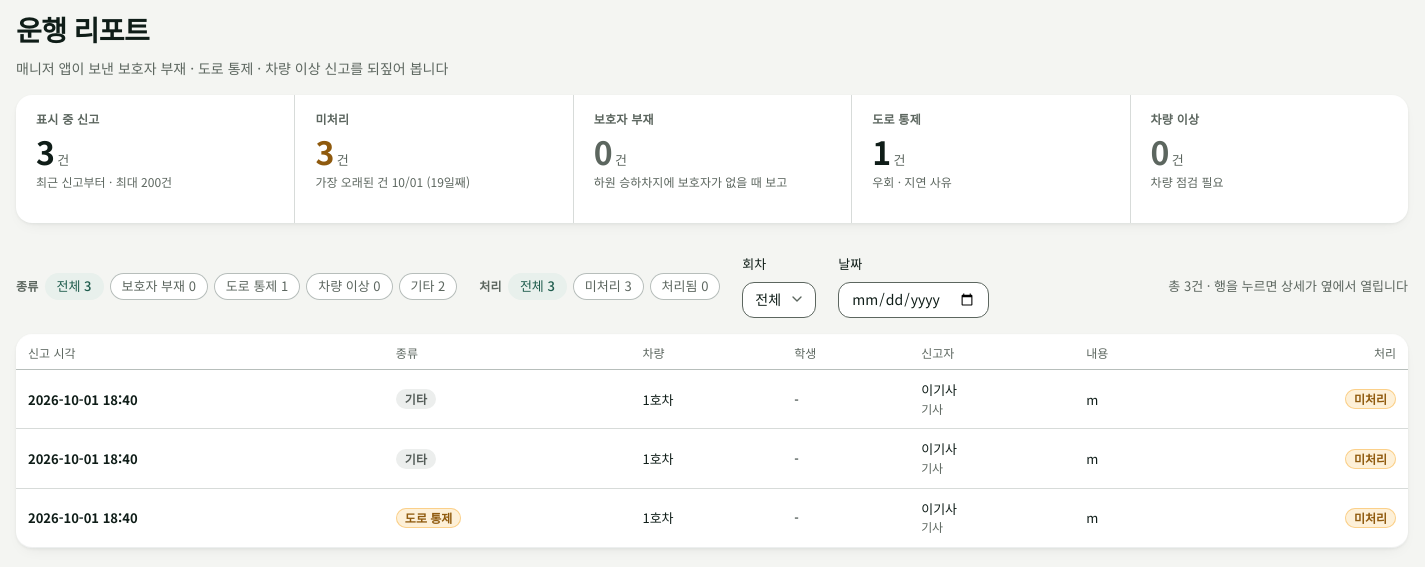
Test case: ReportList — 미처리 카드와 필터의 일관성 › 종류를 고른 채 처리 필터를 바꾸면, 앞 조건에서 센 종류별 건수를 그대로 쓰지 않는다
Expected: the tab "기타 2" is shown, [398,273,457,300]
What coordinates should you click on to do the following:
click the tab "도로 통제 1"
I would click on:
 (257, 286)
Its box is [214,273,300,300].
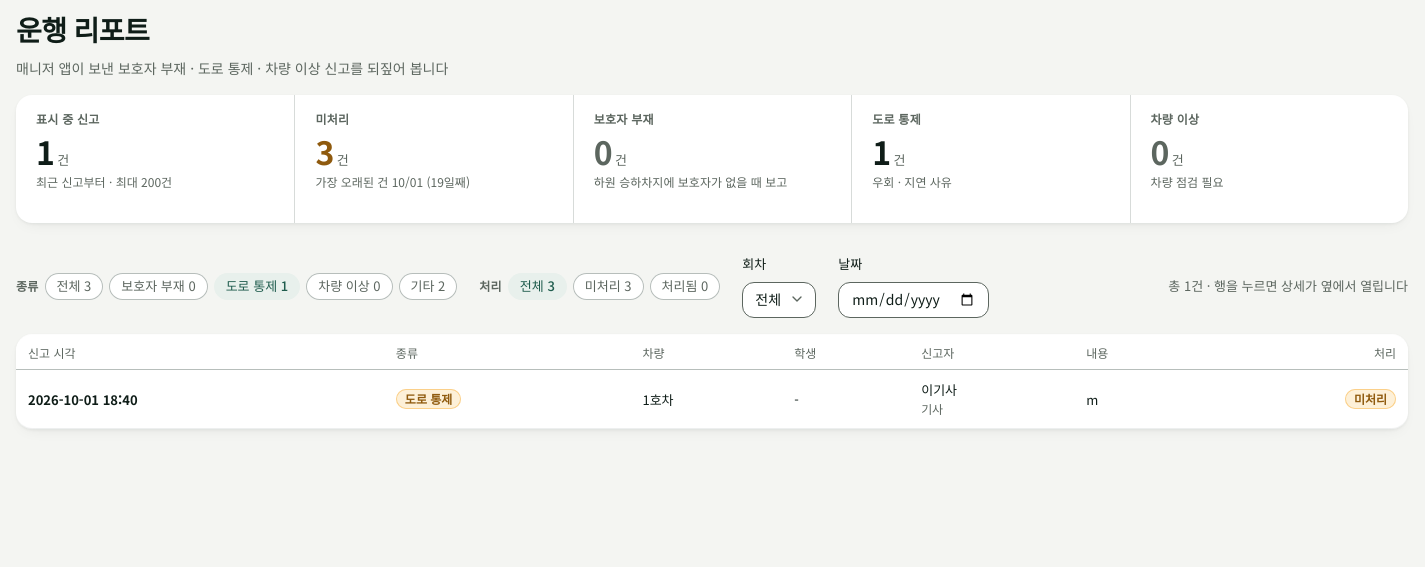
Expected: the tab "기타 2" is shown, [398,273,457,300]
What coordinates should you click on to do the following:
click the tab "미처리 3"
I would click on:
 (608, 286)
Its box is [573,273,644,300].
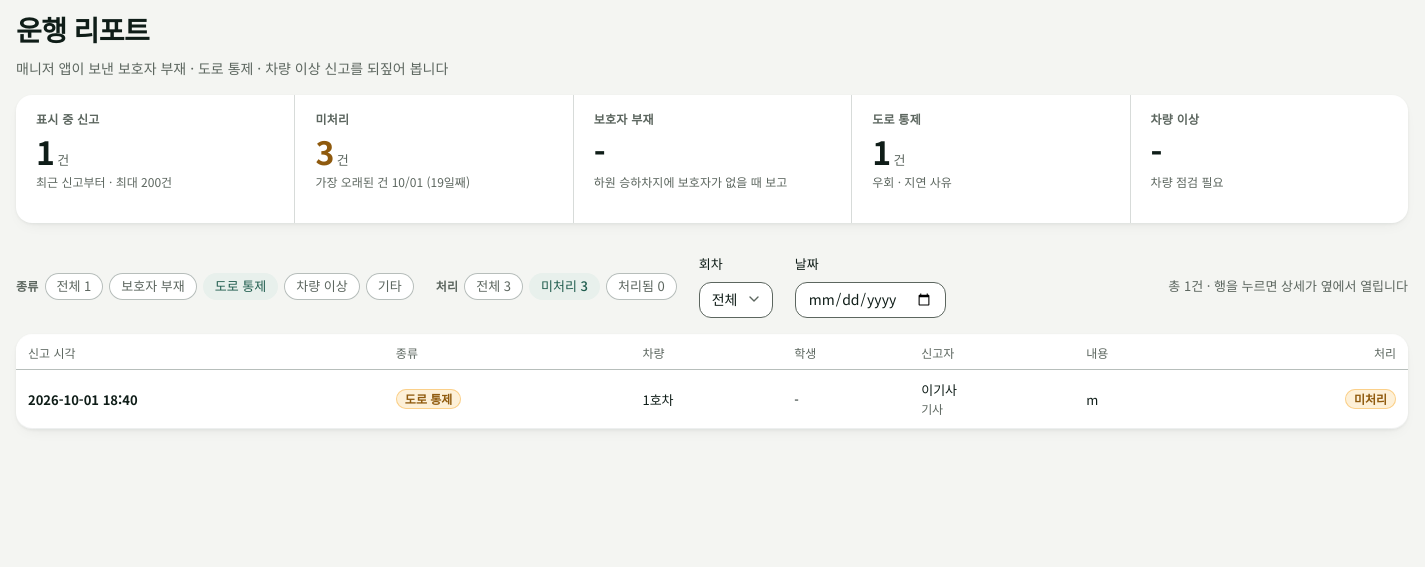
Expected: the tab "기타" is shown, [366,273,414,300]
Now the tab "기타 2" is gone
